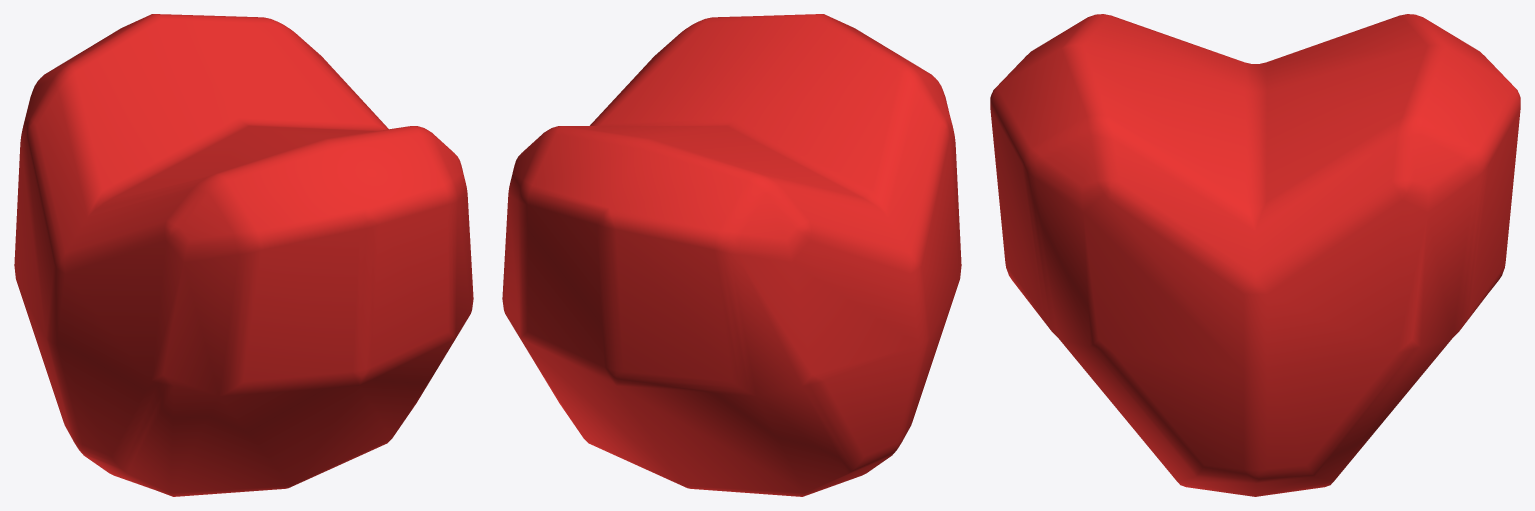
The model's file is Heart.fbx.
3 views of the same model, side by side, from view 1: azimuth 30°, elevation 25°; view 2: azimuth 150°, elevation 25°; view 3: azimuth 270°, elevation 25° (orthographic). The views are drawn at different scales.
Parts seen in each view (by area): view 1: Heart; view 2: Heart; view 3: Heart.
Part boxes in pixels (x1,y1,x2,y2): Heart: [14, 14, 473, 496]; Heart: [502, 14, 961, 496]; Heart: [990, 14, 1520, 496].
Size of the model in its own units: 101 by 96.41 by 114.
